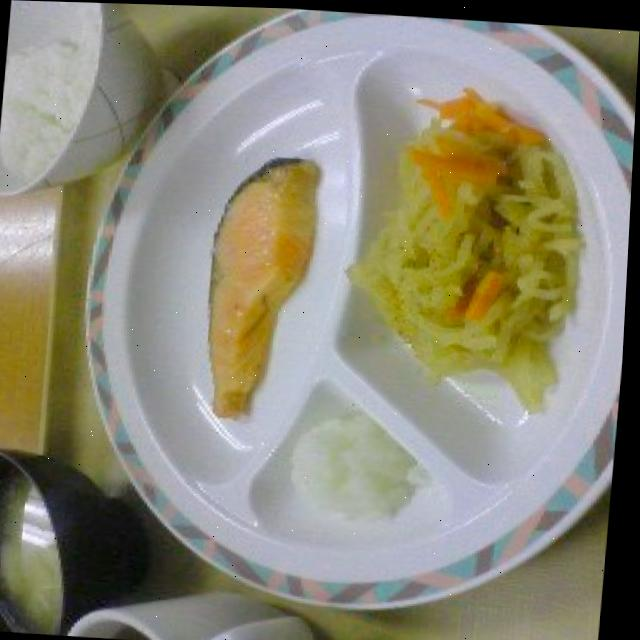熟制海鲜: (145, 120, 335, 432)
